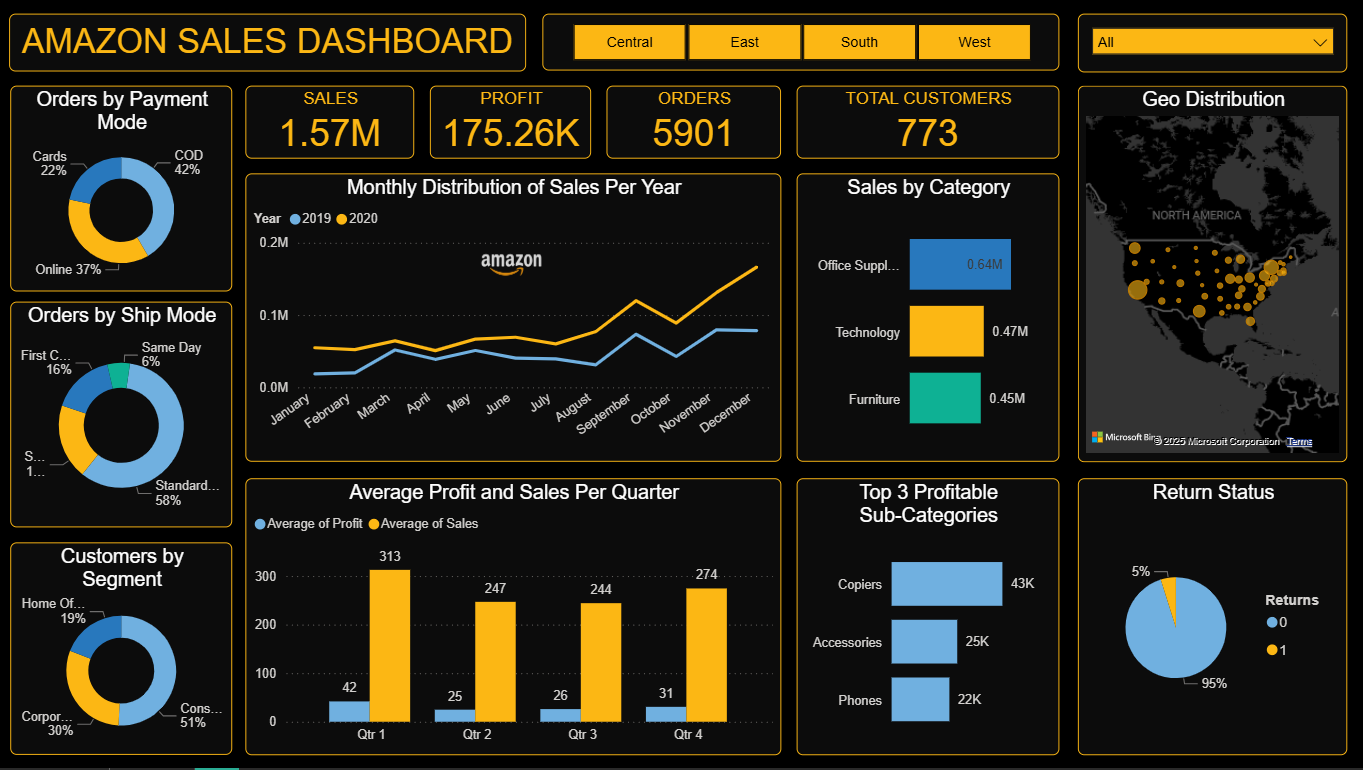

Layout of this report page (visuals, bound fields, positions):
{"tool":"powerbi","page":{"name":"Page 1","canvas":[1280,720],"ordinal":0},"visuals":[{"type":"textbox","box":[9.7,13.7,484.3,54],"z":0},{"type":"image","box":[326.7,220.1,306,53.3],"z":1000},{"type":"donutChart","title":"Orders by Payment Mode","fields":{"Category":["Sheet1.Payment Mode"],"Y":["CountNonNull(Sheet1.Order ID)"]},"box":[10.3,80.8,208,192.6],"z":2000},{"type":"donutChart","title":"Orders by Ship Mode","fields":{"Category":["Sheet1.Ship Mode"],"Y":["CountNonNull(Sheet1.Order ID)"]},"box":[10.3,283.7,208,211.5],"z":3000},{"type":"donutChart","title":"Customers by Segment","fields":{"Category":["Sheet1.Segment"],"Y":["CountNonNull(Sheet1.Customer ID)"]},"box":[10.3,508.9,208,199.4],"z":4000},{"type":"lineChart","title":"Monthly Distribution of Sales Per Year","fields":{"Category":["Sheet1.Order Date.Variation.Date Hierarchy.Month"],"Y":["Sum(Sheet1.Sales)"],"Series":["Sheet1.Order Date.Variation.Date Hierarchy.Year"]},"box":[230.4,163.3,502,269.9],"z":5000},{"type":"clusteredColumnChart","title":"Average Profit and Sales Per Quarter","fields":{"Category":["Sheet1.Order Date.Variation.Date Hierarchy.Quarter"],"Y":["Avg(Sheet1.Profit)","Avg(Sheet1.Sales)"]},"box":[230.4,448.7,502,259.6],"z":6000},{"type":"map","title":"Geo Distribution","fields":{"Category":["Sheet1.State"],"Size":["Sum(Sheet1.Sales)"]},"box":[1010.9,80.8,252.7,352.5],"z":7000},{"type":"clusteredBarChart","title":"Sales by Category","fields":{"Category":["Sheet1.Category"],"Y":["Sum(Sheet1.Sales)"]},"box":[747.9,163.3,245.9,269.9],"z":8000},{"type":"clusteredBarChart","title":"Top 3 Profitable Sub-Categories","fields":{"Category":["Sheet1.Sub-Category"],"Y":["Sum(Sheet1.Profit)"]},"box":[747.9,448.7,245.9,259.6],"z":9000},{"type":"pieChart","title":"Return Status","fields":{"Category":["Sheet1.Returns"],"Y":["CountNonNull(Sheet1.Order ID)"]},"box":[1010.9,448.7,252.7,259.6],"z":10000},{"type":"card","title":"SALES","fields":{"Values":["Sum(Sheet1.Sales)"]},"box":[230.4,80.8,158.2,68.8],"z":11000},{"type":"card","title":"TOTAL CUSTOMERS","fields":{"Values":["Count(Sheet1.Customer ID)"]},"box":[747.9,80.8,245.9,68.8],"z":12000},{"type":"card","title":"PROFIT","fields":{"Values":["Sum(Sheet1.Profit)"]},"box":[404,80.8,151.3,68.8],"z":13000},{"type":"card","title":"ORDERS","fields":{"Values":["CountNonNull(Sheet1.Order ID)"]},"box":[569.1,80.8,163.3,68.8],"z":14000},{"type":"slicer","fields":{"Values":["Sheet1.Region"]},"box":[508.9,13.8,484.8,53.3],"z":15000},{"type":"slicer","title":"Choose State","fields":{"Values":["Sheet1.State"]},"box":[1010.9,13.8,252.7,55],"z":16000}]}

Visuals, with their boxes in screenshot pixels (x1, y1, x2, y2), scaled from the page's 1280x720 canvas onto the 1363x770 screenshot:
textbox: select_region(10, 15, 526, 72)
image: select_region(348, 235, 674, 292)
"Orders by Payment Mode" donutChart: select_region(11, 86, 232, 292)
"Orders by Ship Mode" donutChart: select_region(11, 303, 232, 530)
"Customers by Segment" donutChart: select_region(11, 544, 232, 757)
"Monthly Distribution of Sales Per Year" lineChart: select_region(245, 175, 780, 463)
"Average Profit and Sales Per Quarter" clusteredColumnChart: select_region(245, 480, 780, 757)
"Geo Distribution" map: select_region(1076, 86, 1346, 463)
"Sales by Category" clusteredBarChart: select_region(796, 175, 1058, 463)
"Top 3 Profitable Sub-Categories" clusteredBarChart: select_region(796, 480, 1058, 757)
"Return Status" pieChart: select_region(1076, 480, 1346, 757)
"SALES" card: select_region(245, 86, 414, 160)
"TOTAL CUSTOMERS" card: select_region(796, 86, 1058, 160)
"PROFIT" card: select_region(430, 86, 591, 160)
"ORDERS" card: select_region(606, 86, 780, 160)
slicer - Sheet1.Region: select_region(542, 15, 1058, 72)
"Choose State" slicer: select_region(1076, 15, 1346, 74)
